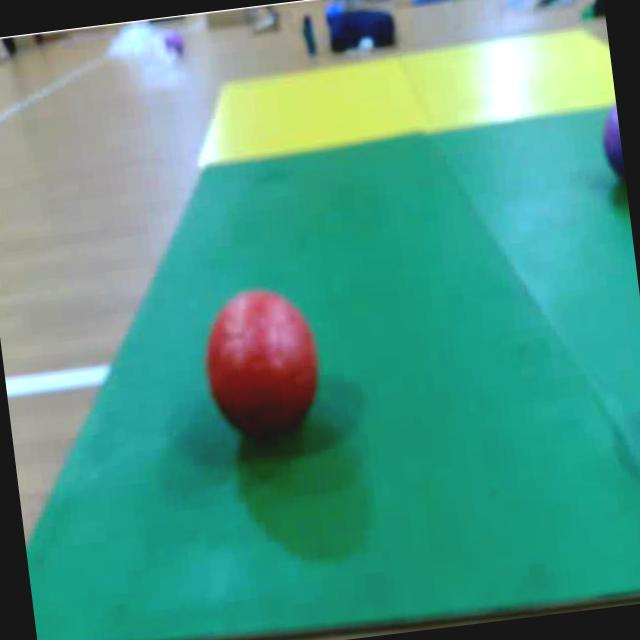purple_ball: (585, 70, 628, 204)
red_ball: (172, 261, 369, 478)
